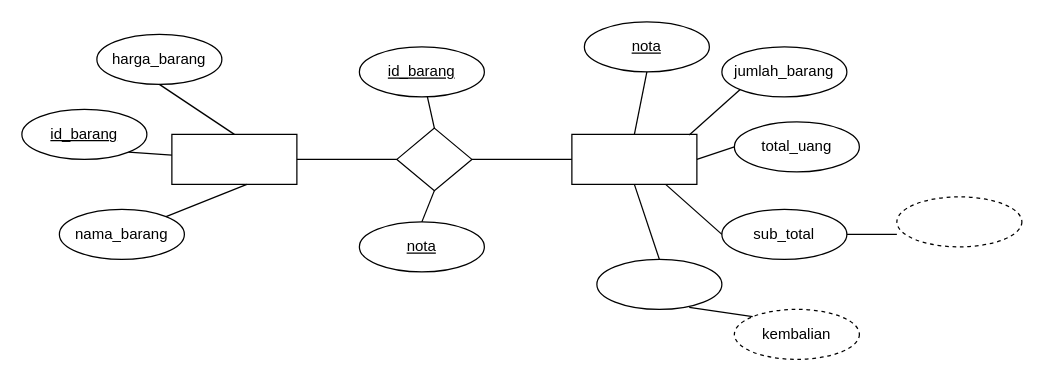
The diagram is 1044 pixels wide and 381 high, and some of its shapes have lost their labels. The box of each missing label's shape, as (x1, y1, x2, y2) in pixels:
Barang: (171, 133, 297, 184)
invoice: (571, 133, 697, 184)
pajak: (896, 196, 1022, 247)
total_bayar: (596, 258, 722, 309)
